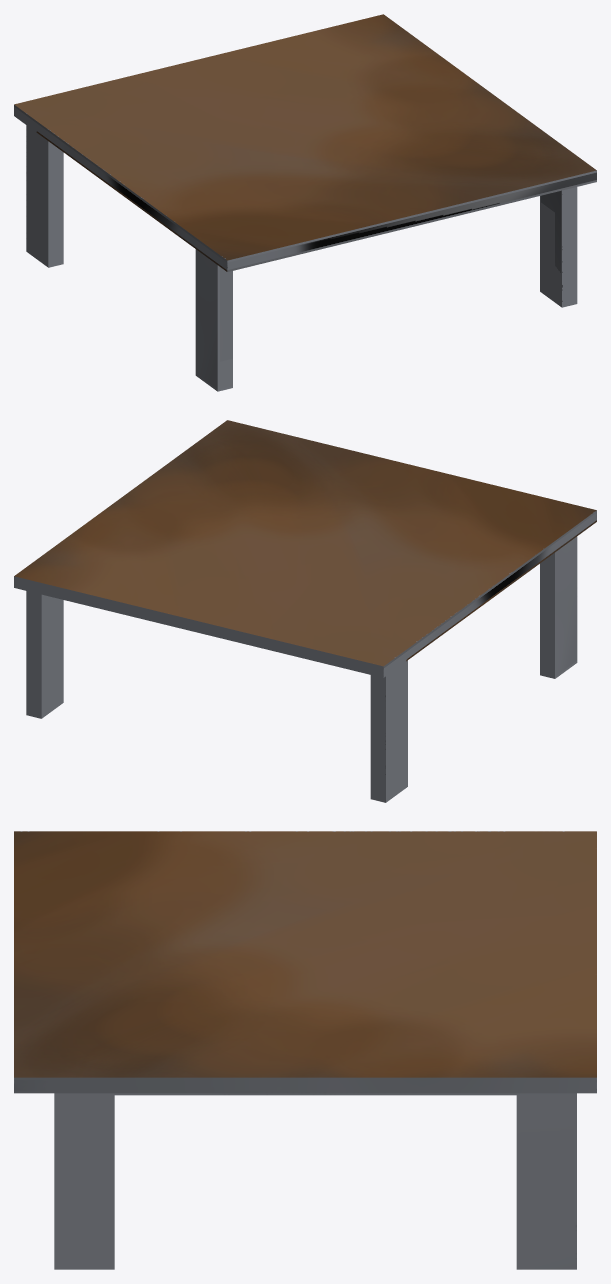
The model's file is stolkuchnia.fbx.
3 renders of one model, top to bottom at view 1: azimuth 30°, elevation 25°; view 2: azimuth 150°, elevation 25°; view 3: azimuth 270°, elevation 25°, orthographic. The views are drawn at different scales.
Parts seen in each view (by area): view 1: obj_0; view 2: obj_0; view 3: obj_0.
Part boxes in pixels (x1=…): obj_0: x1=14, y1=14, x2=596, y2=391; obj_0: x1=14, y1=420, x2=596, y2=802; obj_0: x1=14, y1=831, x2=596, y2=1269.
Bounding box in the file's own units: 10000 × 3700 × 10000.
